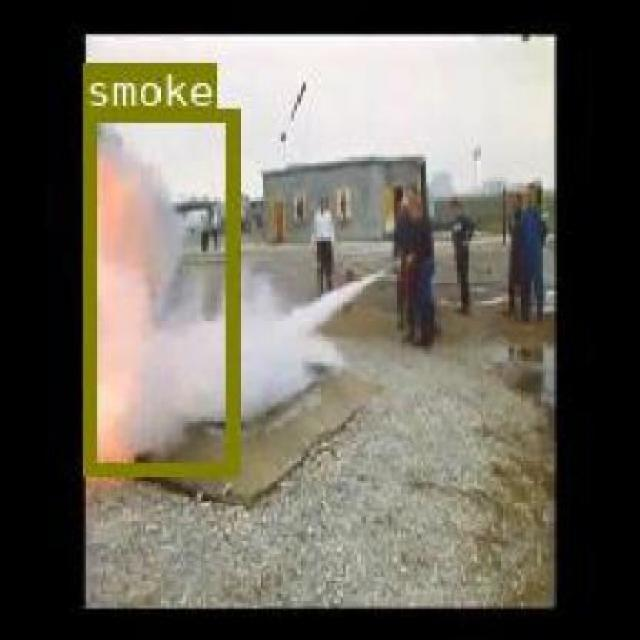Smoke: (80, 107, 236, 475)
